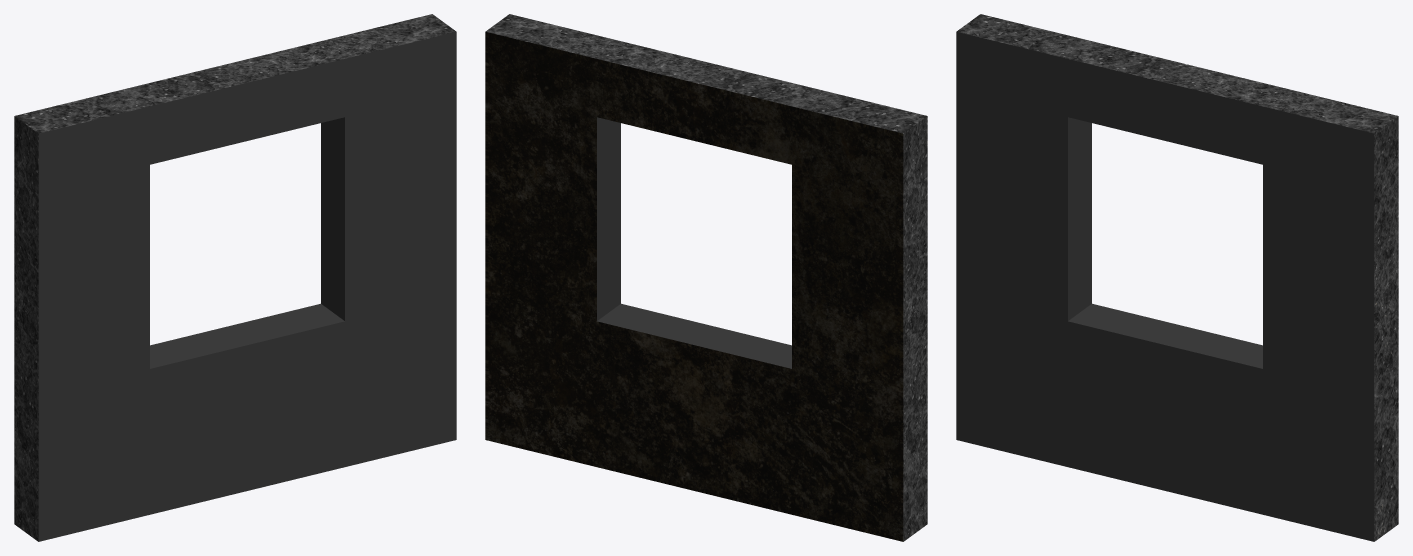
File: SM_WallWindowNarrow01.FBX
The picture shows the model from 3 angles, left to right: view 1: azimuth 30°, elevation 25°; view 2: azimuth 150°, elevation 25°; view 3: azimuth 330°, elevation 25°; orthographic projection.
Visible parts, largest first — view 1: SM_WallWindowNarrow01_LOD0; view 2: SM_WallWindowNarrow01_LOD0; view 3: SM_WallWindowNarrow01_LOD0.
Part boxes in pixels (x1,y1,x2,y2): SM_WallWindowNarrow01_LOD0: (14, 14, 456, 541); SM_WallWindowNarrow01_LOD0: (485, 14, 927, 541); SM_WallWindowNarrow01_LOD0: (956, 14, 1398, 541).
Bounding box in the file's own units: 300 × 30 × 280.
